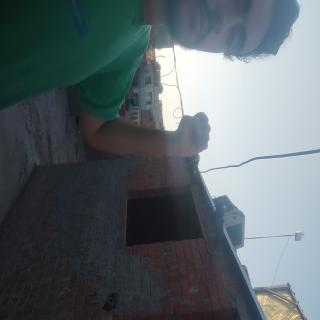SAD: (82, 141, 123, 196)
